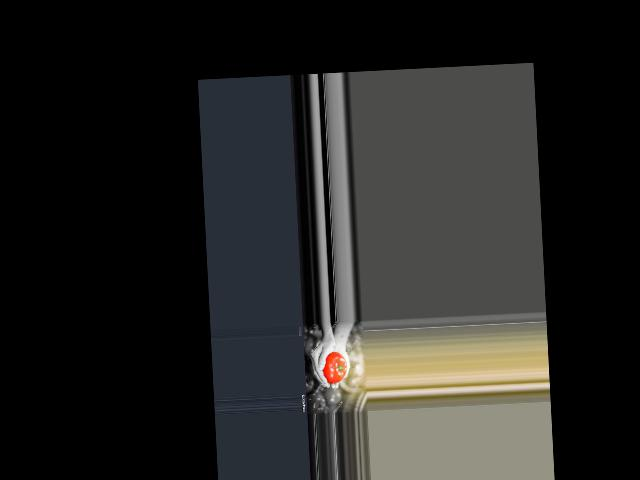tomato: (321, 350, 347, 383)
